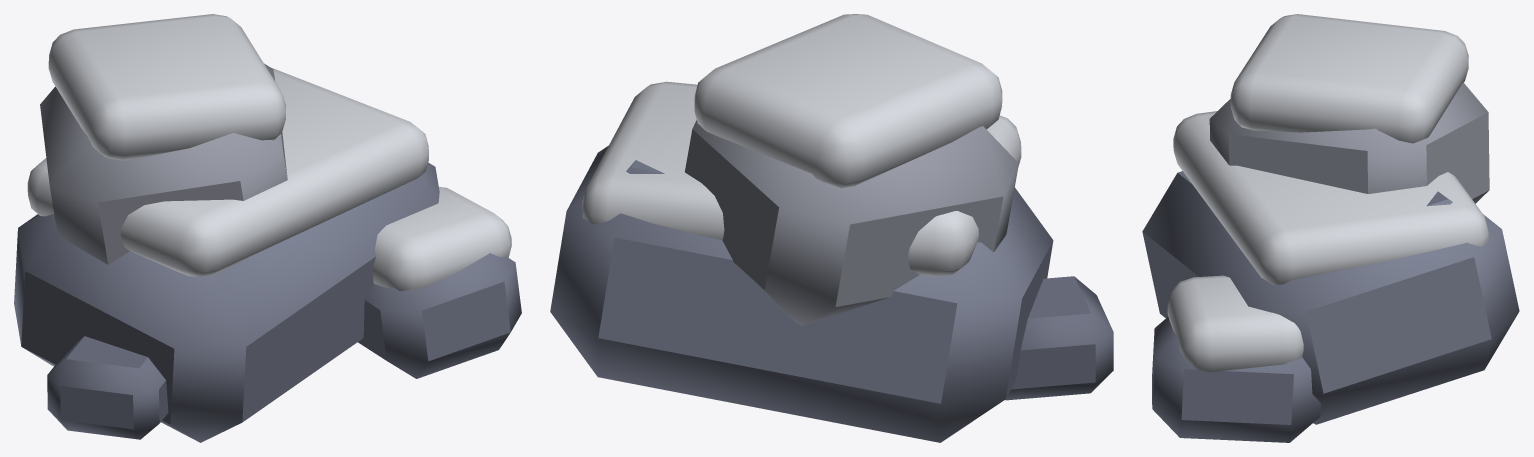
Rendered from p_rock_snow_2.glb.
3 renders of one model, left to right at view 1: azimuth 30°, elevation 25°; view 2: azimuth 150°, elevation 25°; view 3: azimuth 270°, elevation 25°, orthographic. The views are drawn at different scales.
Parts seen in each view (by area): view 1: body; view 2: body; view 3: body.
Part boxes in pixels (left/top/right/bottom): body: left=14, top=14, right=521, bottom=442; body: left=550, top=14, right=1113, bottom=442; body: left=1142, top=14, right=1519, bottom=442.
Bounding box in the file's own units: 2.57 × 1.82 × 2.02.
